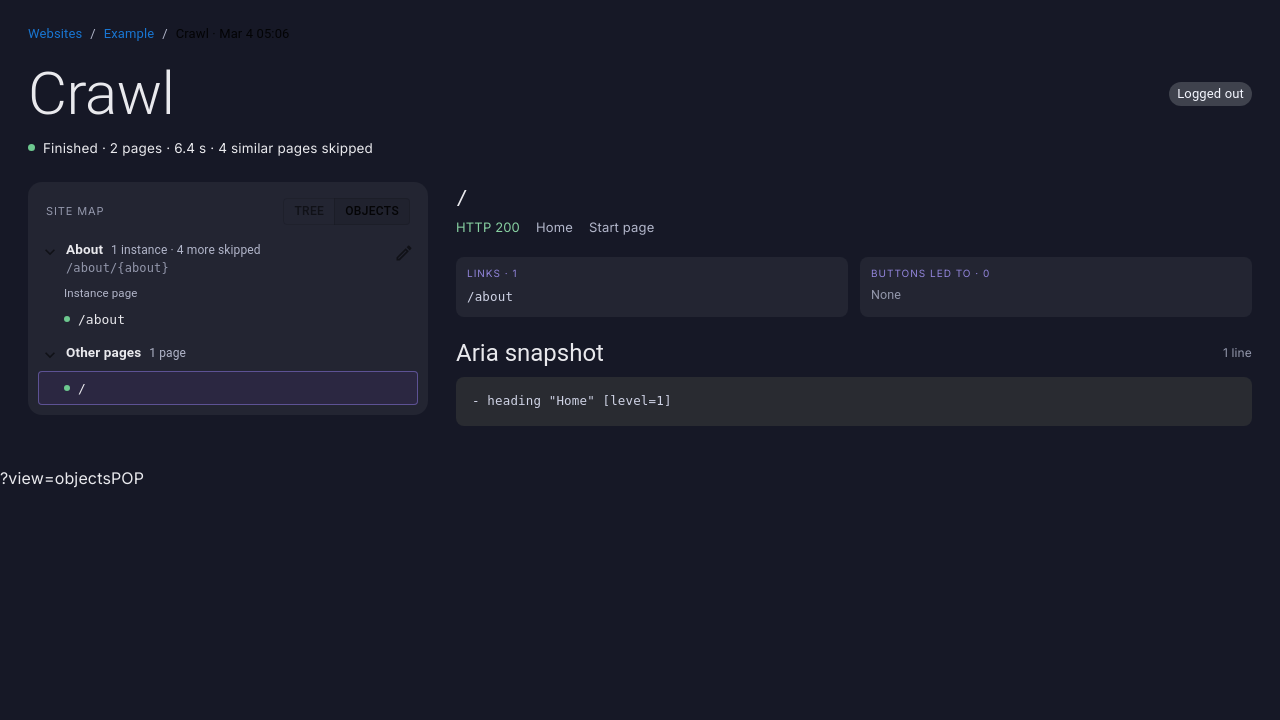
it: CrawlRunPage's Objects view › renames a saved object and shows the new name at once
The width and height of the screenshot is (1280, 720).
Click the button named "Rename About". click: point(404, 253)
box: [390,239,418,267]
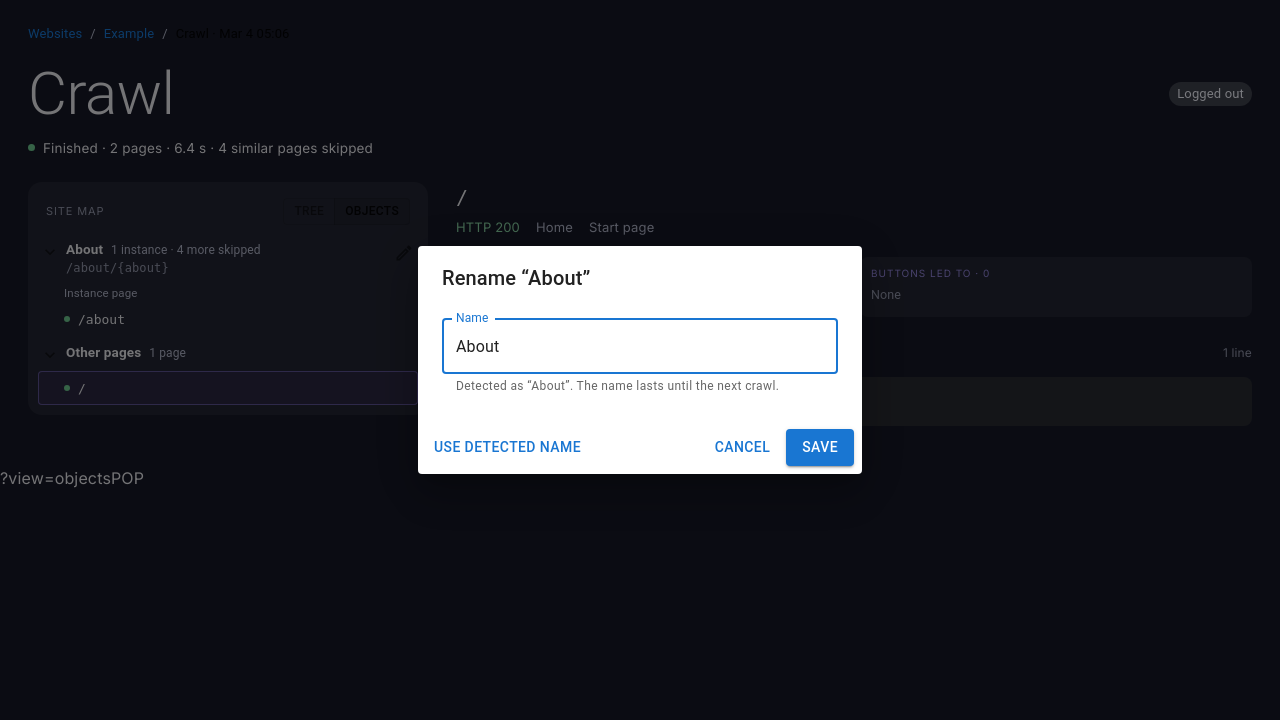
Replace the text in the field labelled "Name" with "Company page". click: point(640, 346)
box: [442,318,838,374]
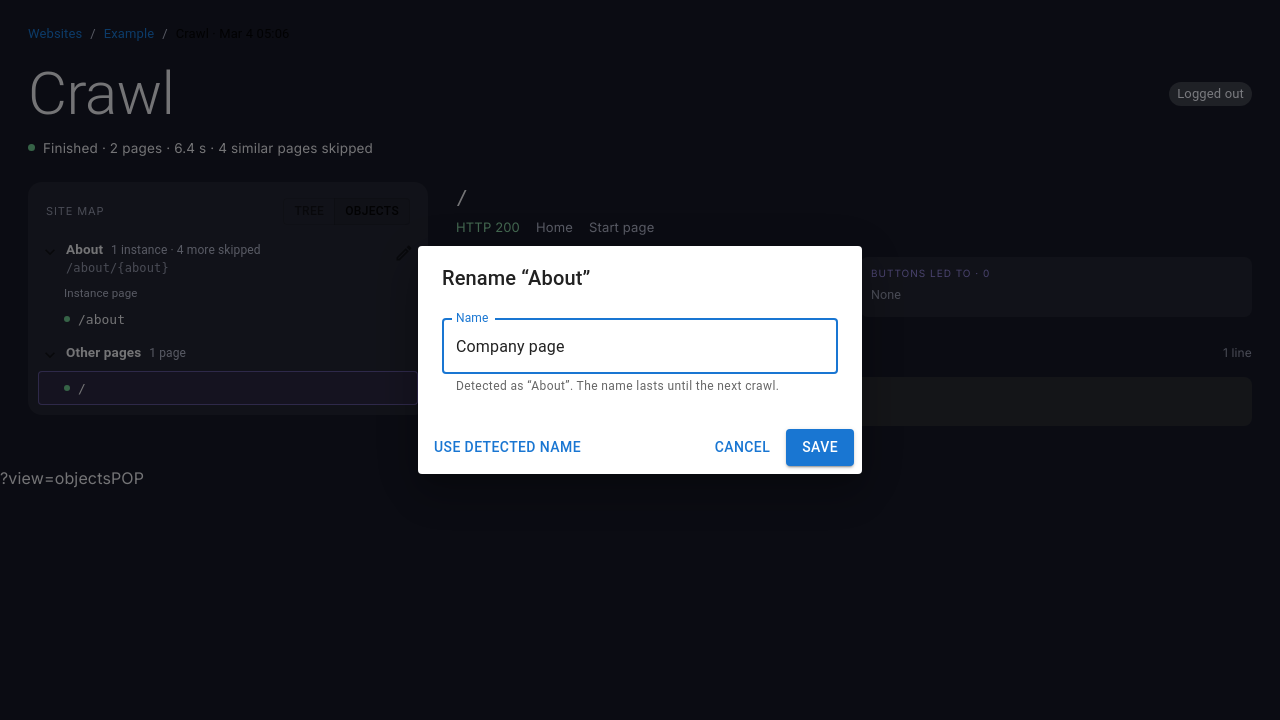
Click the button "Save". click: point(820, 447)
box: [786,429,854,466]
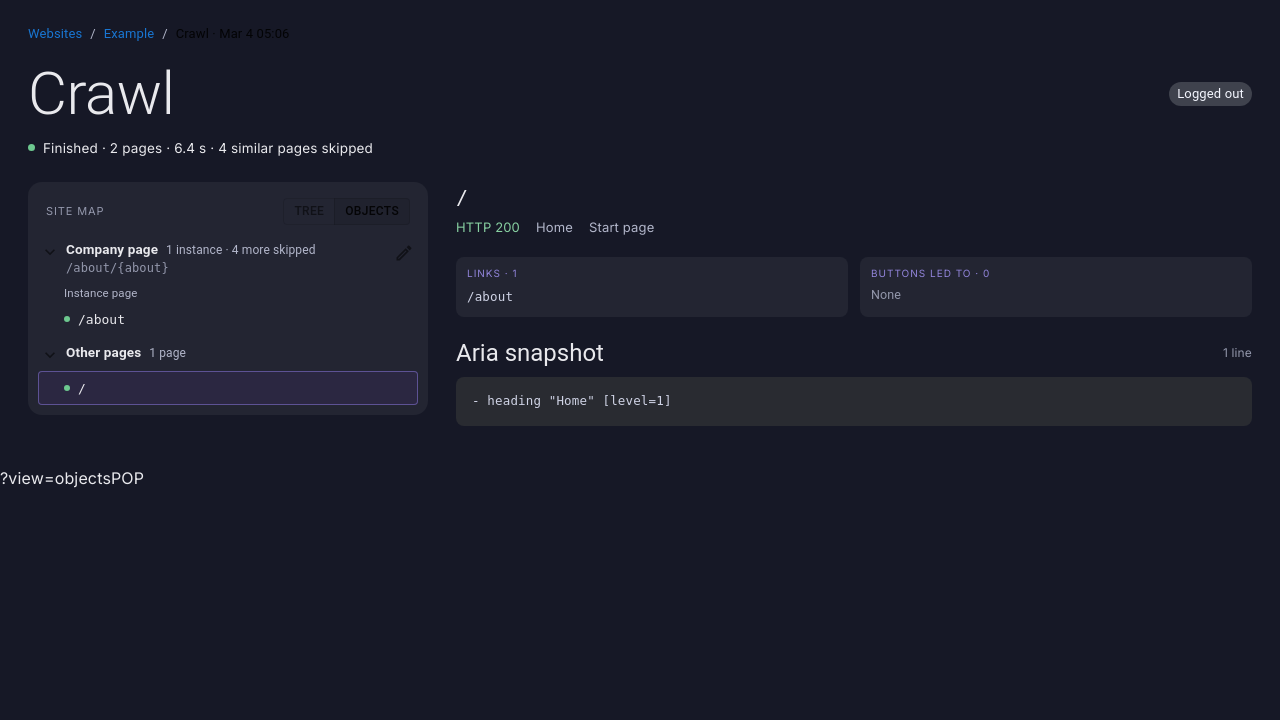
Result: the heading "Company page" is shown at [66,239,158,259]
Result: the dialog is gone
Click the button named "Rename Company page". click: point(404, 253)
box: [390,239,418,267]
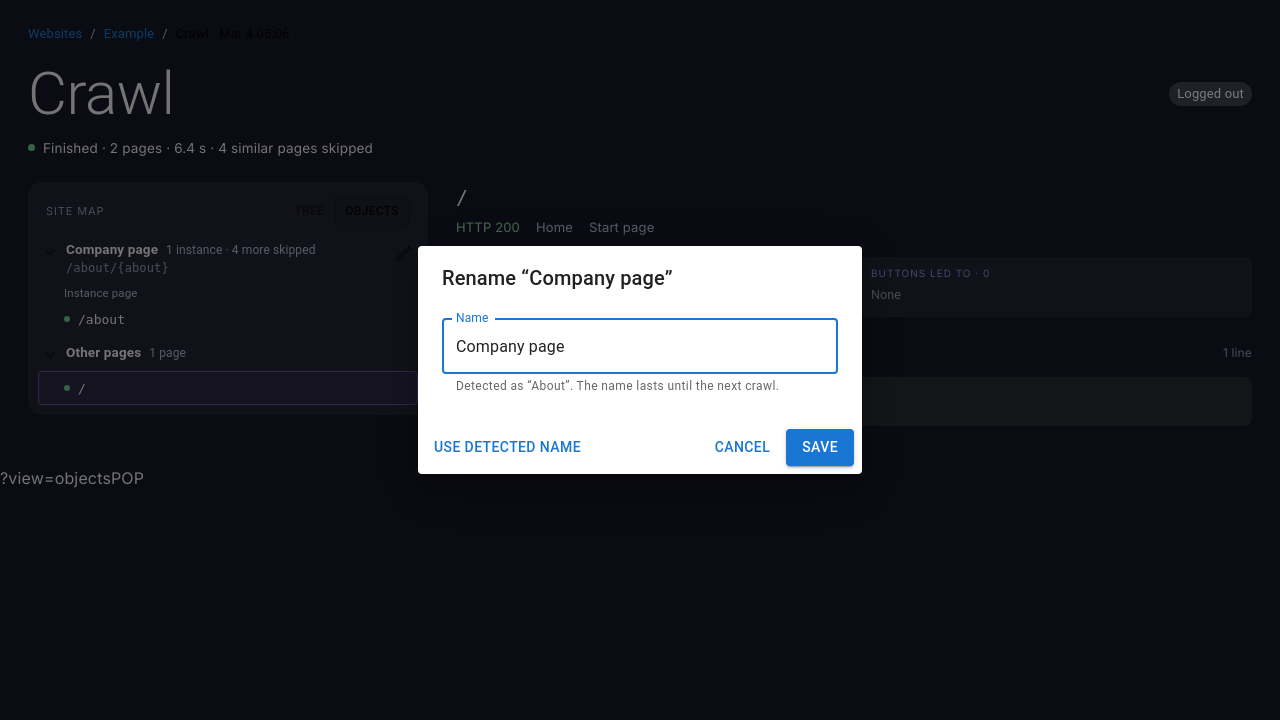
Result: the field labelled "Name" holds "Company page" at [442,318,838,374]
Click the button "Cancel". click: point(742, 447)
box: [707,429,778,466]
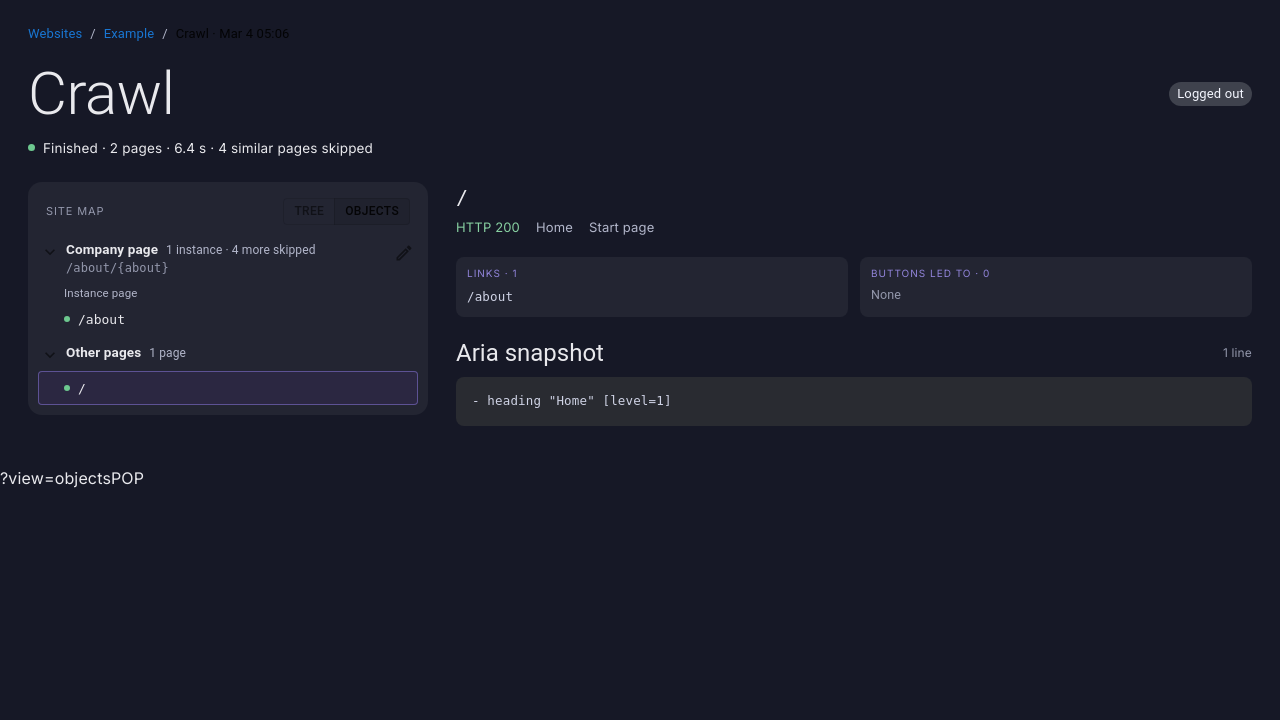
Result: the dialog is gone
